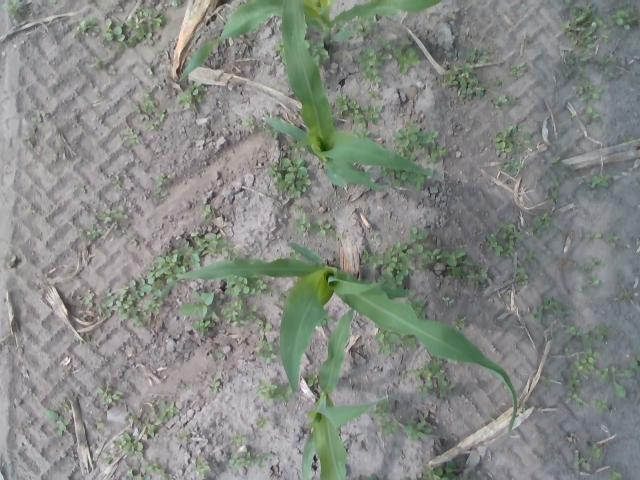Maize: (161, 242, 517, 436), (264, 2, 431, 192), (179, 0, 443, 82), (301, 307, 385, 480)
Weeds: (363, 226, 492, 290), (560, 0, 618, 124), (565, 320, 640, 413), (112, 395, 180, 459), (96, 278, 161, 329), (354, 36, 422, 81), (101, 8, 168, 52), (393, 118, 448, 162), (335, 92, 386, 139), (492, 121, 537, 174), (400, 360, 456, 402), (439, 49, 488, 97), (222, 277, 270, 325), (268, 157, 315, 202), (226, 434, 277, 475), (77, 204, 129, 242), (178, 232, 242, 262), (294, 203, 344, 238), (136, 88, 170, 132), (484, 223, 526, 258), (147, 249, 187, 284), (530, 295, 572, 328), (373, 398, 402, 443), (179, 287, 217, 318), (574, 442, 606, 478), (254, 322, 280, 366), (124, 459, 178, 480), (382, 169, 432, 191), (45, 403, 75, 438), (333, 19, 379, 41), (177, 80, 210, 110), (546, 154, 564, 204), (418, 461, 462, 480), (260, 378, 293, 403), (612, 272, 636, 306), (402, 420, 436, 444), (373, 330, 402, 357), (582, 259, 604, 293), (530, 210, 554, 240), (306, 40, 332, 67), (95, 386, 124, 410), (609, 10, 640, 32), (154, 172, 174, 204), (1, 0, 27, 24), (117, 126, 143, 150), (74, 16, 100, 39), (191, 318, 215, 340), (491, 94, 524, 110), (190, 455, 210, 480), (508, 61, 530, 80), (587, 174, 612, 190), (207, 340, 225, 362), (414, 298, 431, 319), (78, 288, 94, 310), (175, 426, 191, 448), (208, 371, 223, 394), (201, 203, 220, 221), (514, 267, 530, 287), (524, 248, 538, 270), (253, 412, 270, 430), (275, 41, 287, 66), (582, 232, 602, 246), (288, 142, 310, 154), (242, 115, 256, 133), (132, 234, 148, 249), (492, 76, 507, 92), (452, 316, 469, 330), (403, 338, 421, 351), (110, 174, 126, 188), (308, 372, 320, 390), (524, 33, 538, 48), (607, 469, 626, 480), (91, 417, 108, 429), (24, 132, 36, 149), (101, 452, 115, 466), (608, 234, 620, 250), (32, 110, 46, 122), (620, 134, 636, 144), (542, 376, 555, 387), (289, 252, 304, 261), (172, 0, 188, 8), (7, 255, 16, 269), (94, 58, 106, 68), (448, 12, 458, 22), (443, 297, 455, 304), (520, 2, 528, 11), (146, 66, 154, 74)
